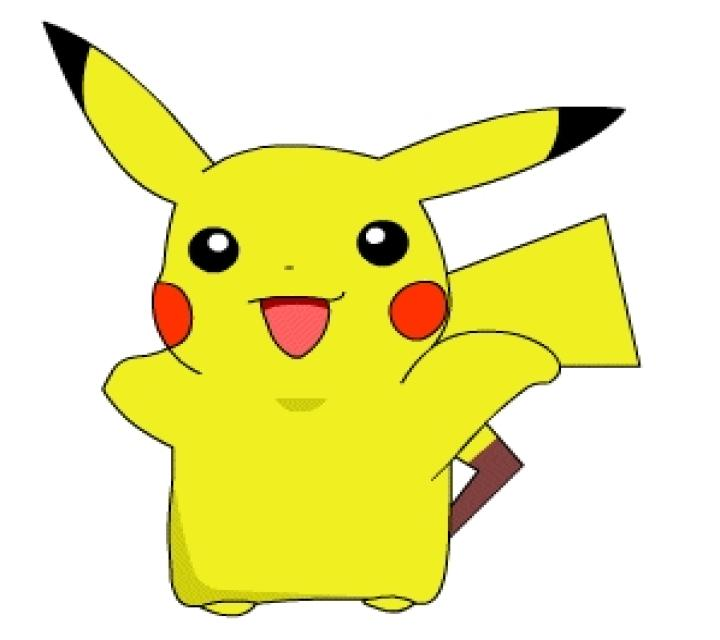Pikachu: (36, 11, 636, 622)
